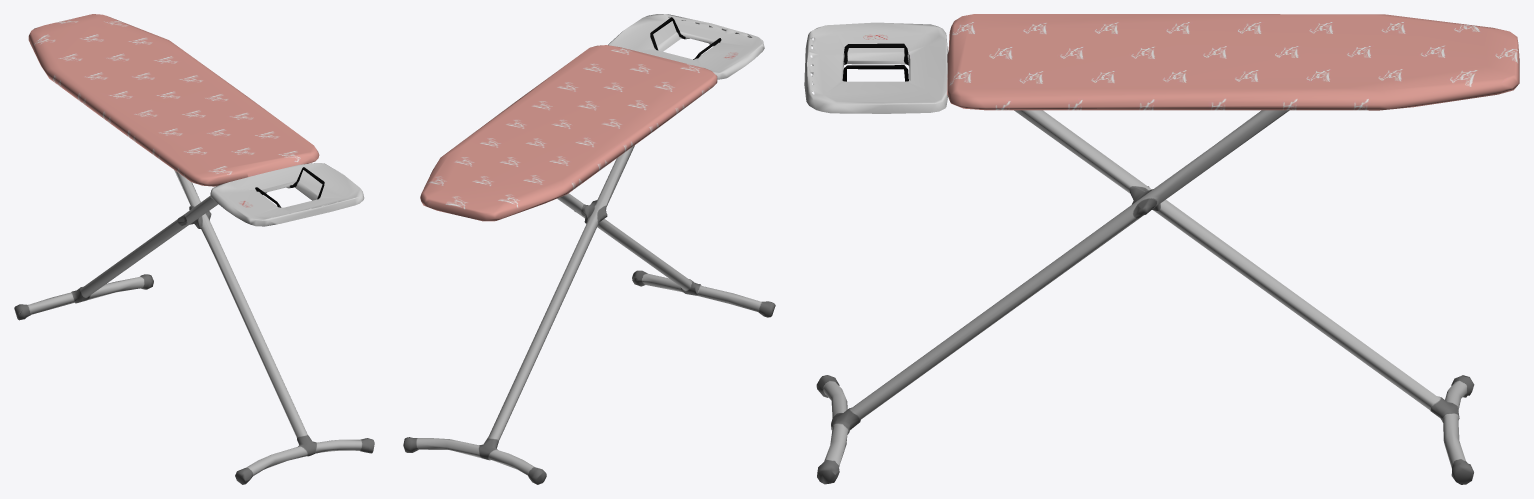
File: SM-GZM-900-OB.glb
The picture shows the model from 3 angles, left to right: view 1: azimuth 30°, elevation 25°; view 2: azimuth 150°, elevation 25°; view 3: azimuth 270°, elevation 25°; orthographic projection. The views are drawn at different scales.
Size of the model in its own units: 9.4 by 18.04 by 29.82.
Materials: 1 (1 with a texture image).
